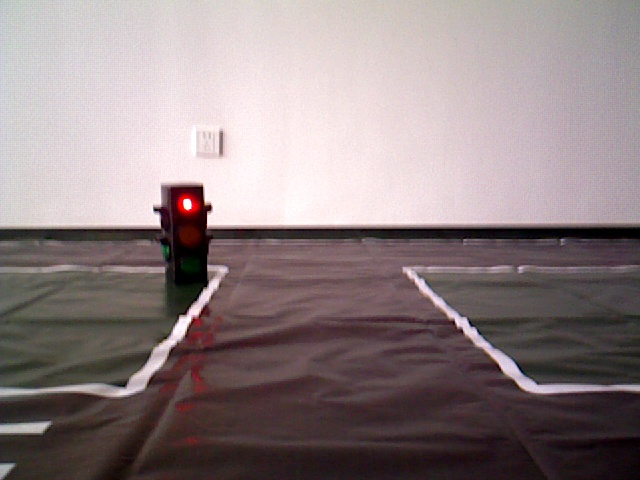red: (162, 186, 207, 292)
